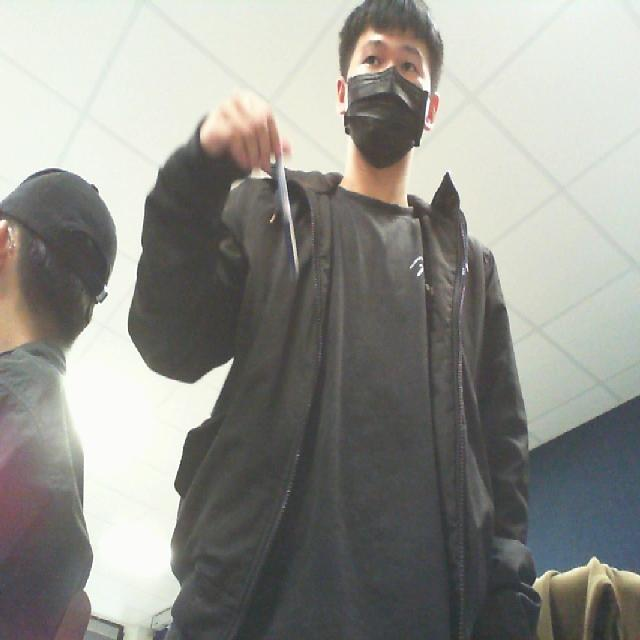Pen: (264, 123, 316, 304)
